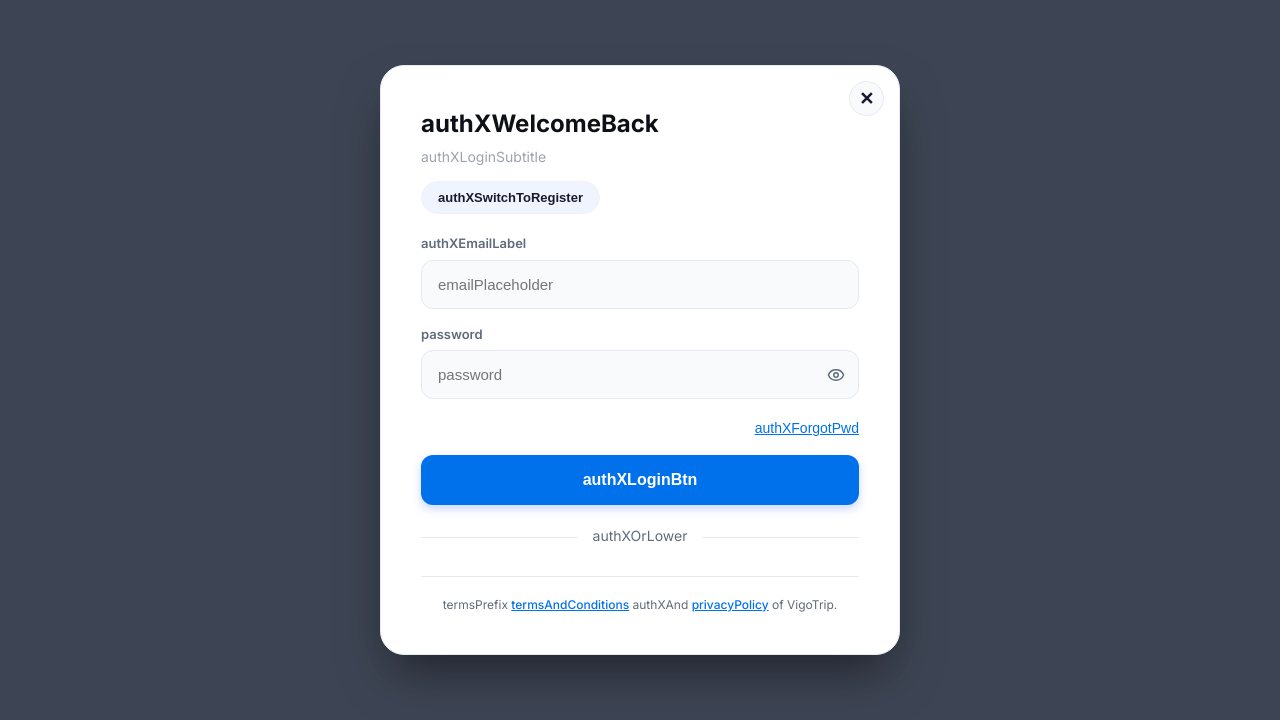
it: Auth — đăng ký rồi xác thực ngay trong modal › email đã tồn tại thì tự chuyển sang đăng nhập, không bắt điền lại từ đầu
Click the button "authXSwitchToRegister" at (510, 198), box [421,181,600,214]
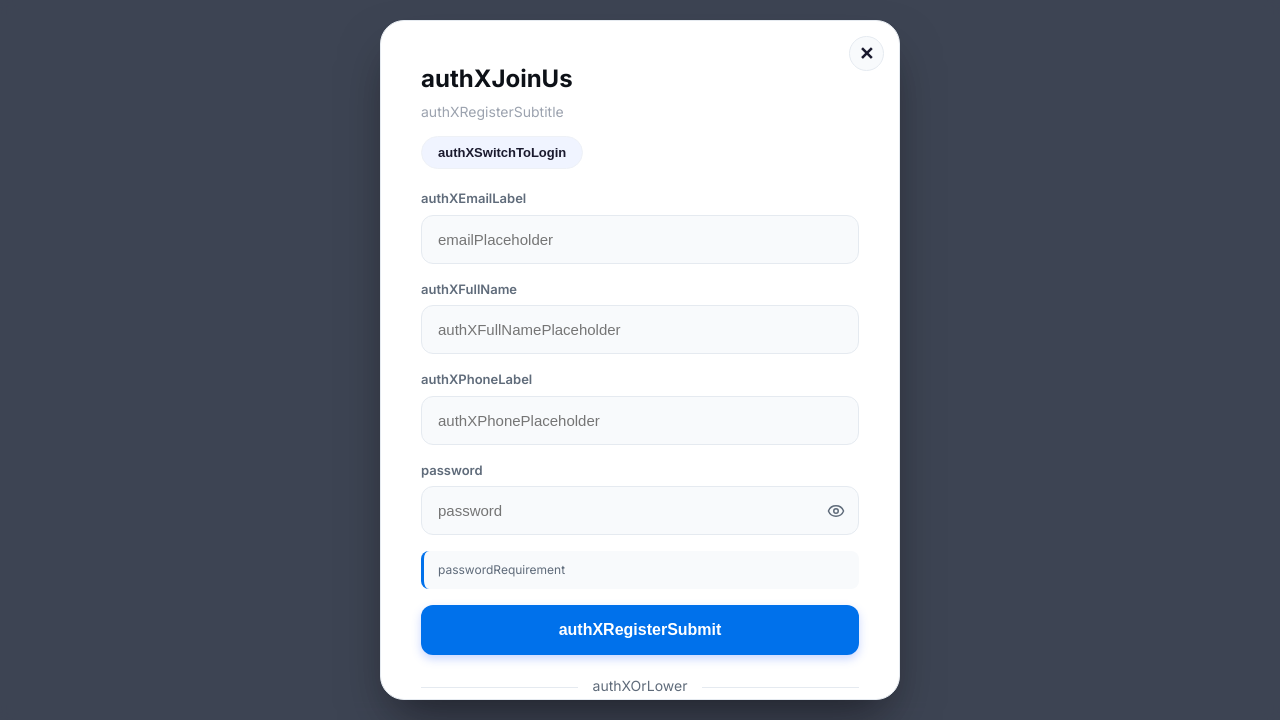
Type "nguoi.dung@gmail.com" into the field with placeholder "emailPlaceholder" at (640, 239), box [421,214,859,264]
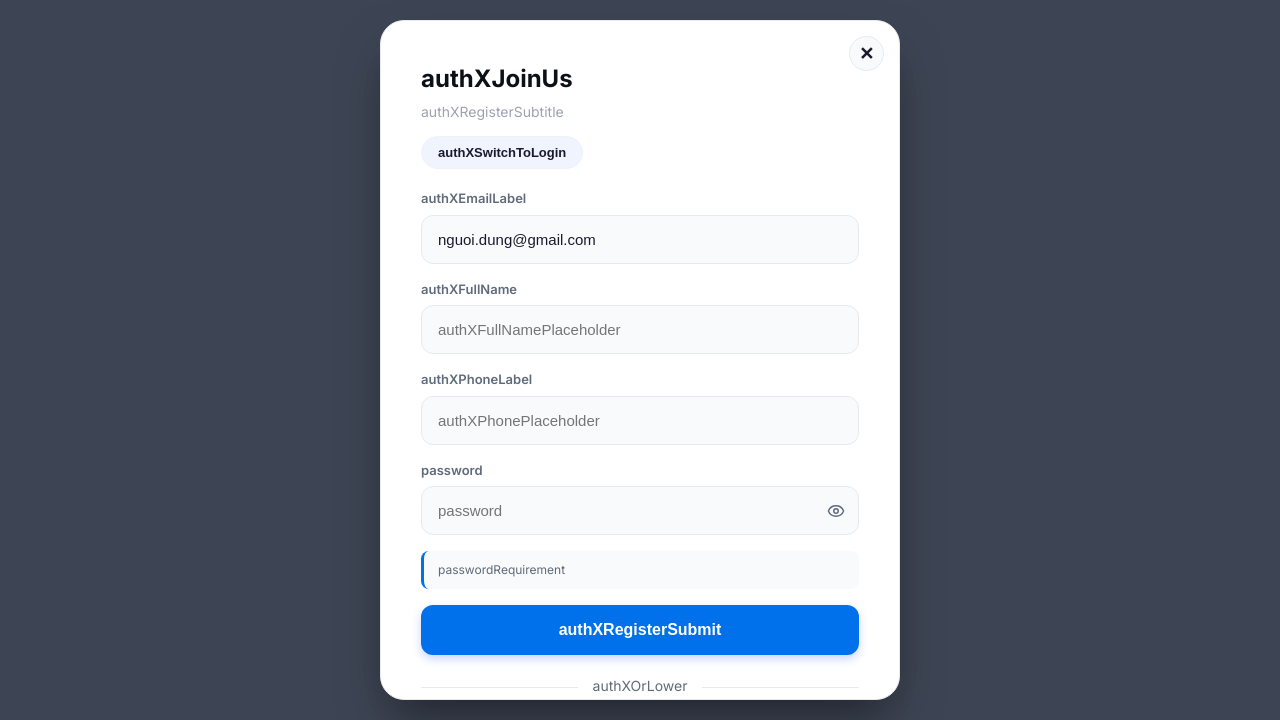
Type "Nguyen Van A" into the field named "fullName" at (640, 330), box [421,305,859,354]
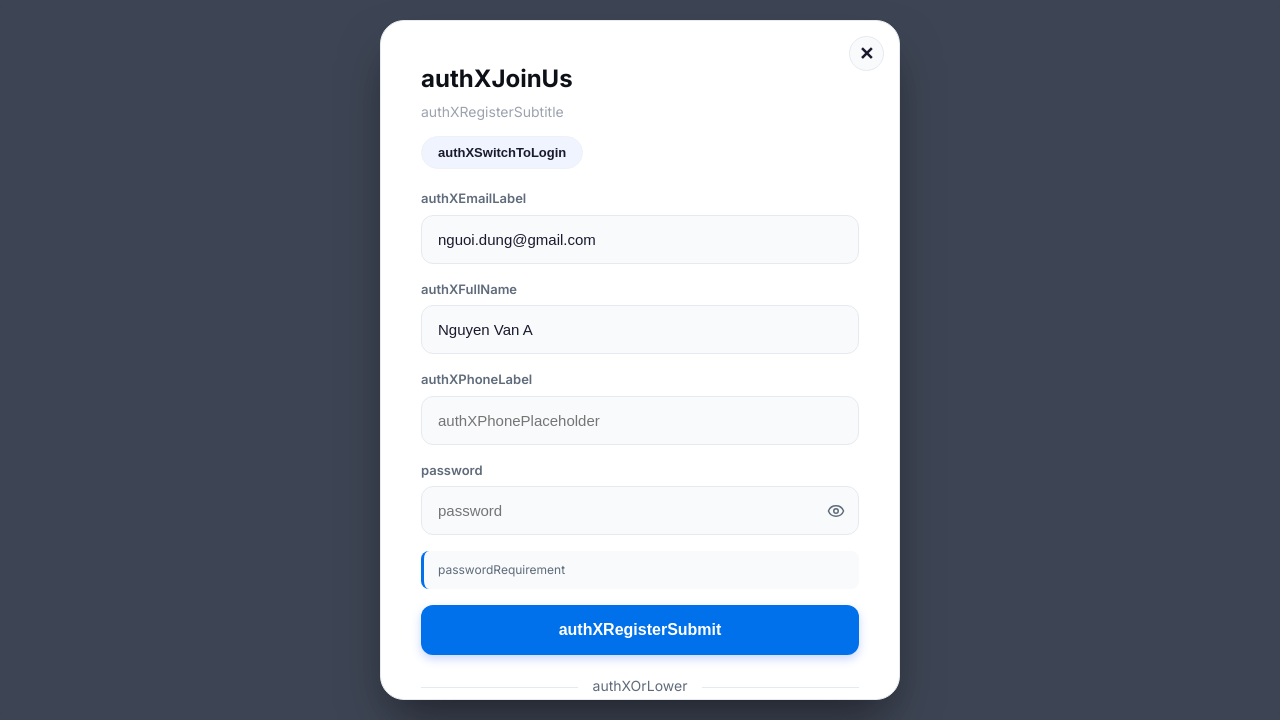
Type "0912345678" into the field named "phone" at (640, 420), box [421,396,859,444]
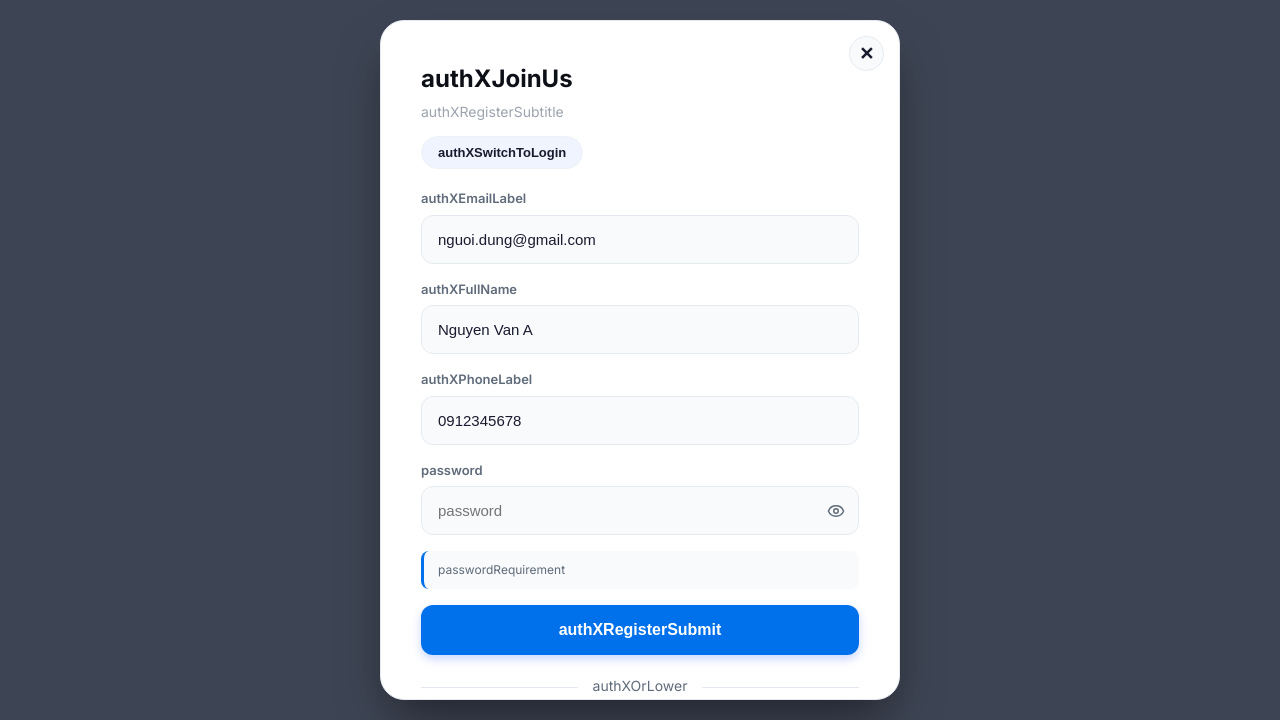
Type "MatKhau1@" into the password field named "password" at (640, 510), box [421,486,859,535]
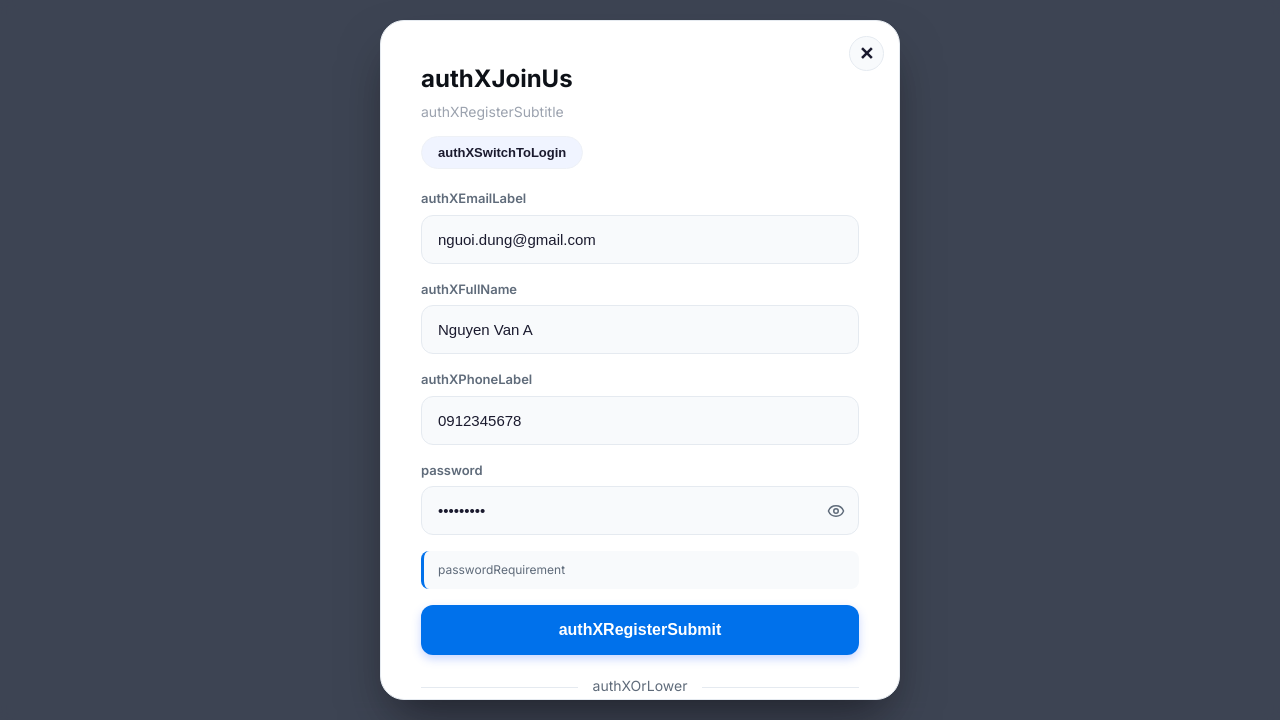
Submit the form named "password", box [421,189,859,675]
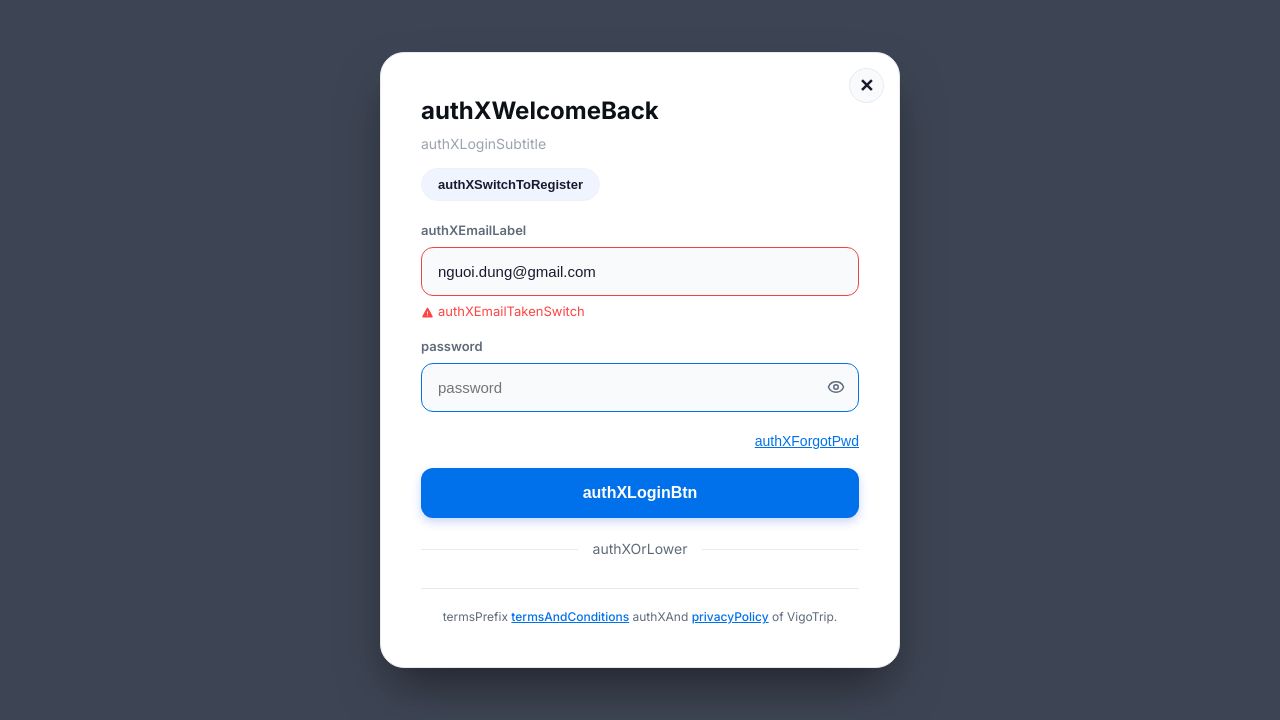
Result: the button "authXSwitchToRegister" is shown at [421,168,600,201]
Result: the field named "fullName" is gone
